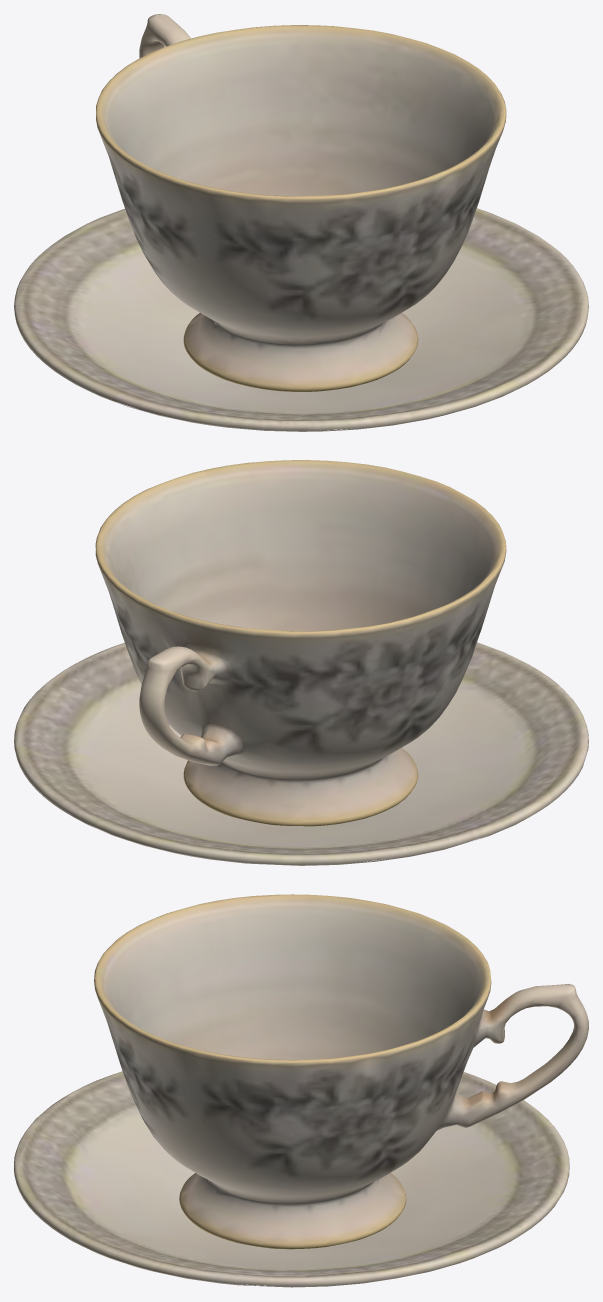
The model's file is teacup.glb.
The picture shows the model from 3 angles, top to bottom: view 1: azimuth 30°, elevation 25°; view 2: azimuth 150°, elevation 25°; view 3: azimuth 270°, elevation 25°; orthographic projection. The views are drawn at different scales.
Parts seen in each view (by area): view 1: tea_cup, tea_saucer; view 2: tea_cup, tea_saucer; view 3: tea_cup, tea_saucer.
Part boxes in pixels (x1,y1,x2,y2): tea_cup: (96, 14, 506, 391); tea_saucer: (14, 208, 588, 431); tea_cup: (95, 460, 506, 826); tea_saucer: (14, 642, 588, 865); tea_cup: (94, 894, 588, 1249); tea_saucer: (14, 1071, 569, 1287).
Size of the model in its own units: 0.1486 by 0.0704 by 0.1536.
2 materials, 2 textured.
